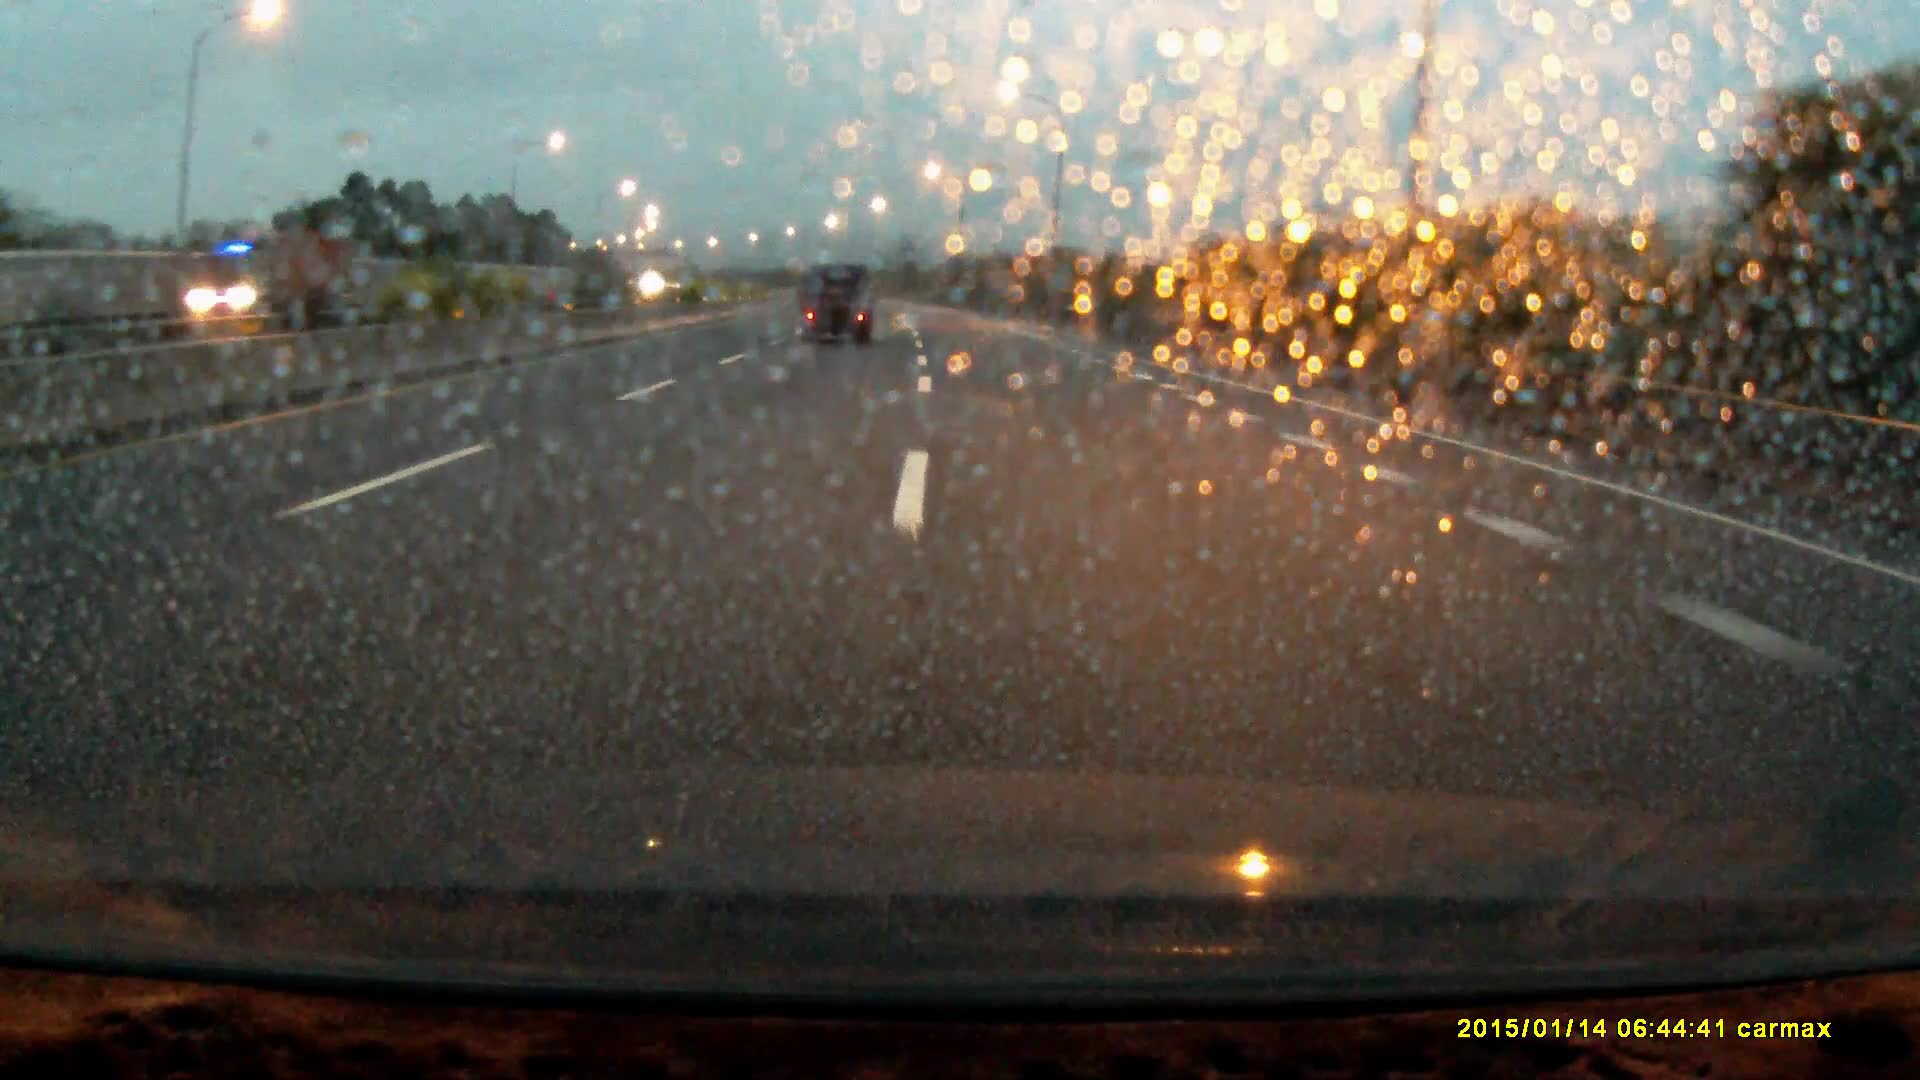vehicle: (169, 233, 345, 323), (796, 269, 876, 353)
